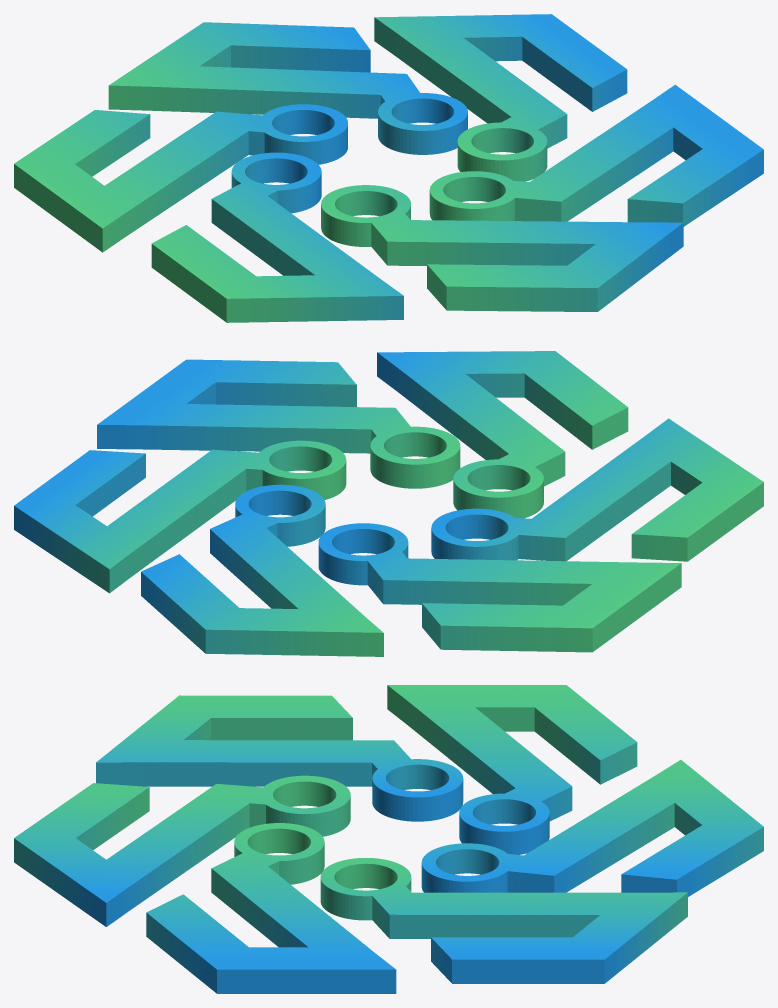
The model's file is Project-Name.glb.
3 views of the same model, one above another, from view 1: azimuth 30°, elevation 25°; view 2: azimuth 150°, elevation 25°; view 3: azimuth 270°, elevation 25° (orthographic).
Visible parts, largest first — view 1: Merged Objects; view 2: Merged Objects; view 3: Merged Objects.
Boxes of the visible parts, x1=… form: Merged Objects: x1=14, y1=14, x2=763, y2=322; Merged Objects: x1=14, y1=351, x2=763, y2=656; Merged Objects: x1=14, y1=685, x2=763, y2=993.
Bounding box in the file's own units: 0.4431 × 0.0176 × 0.4935.
1 material, 1 textured.
